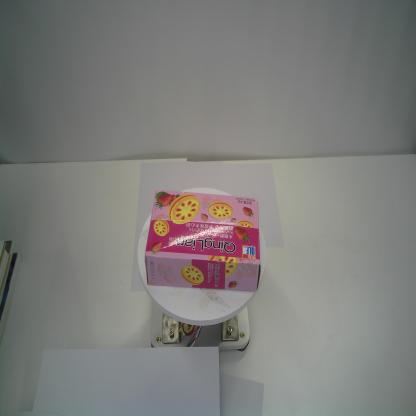Dessert: (144, 189, 262, 293)
